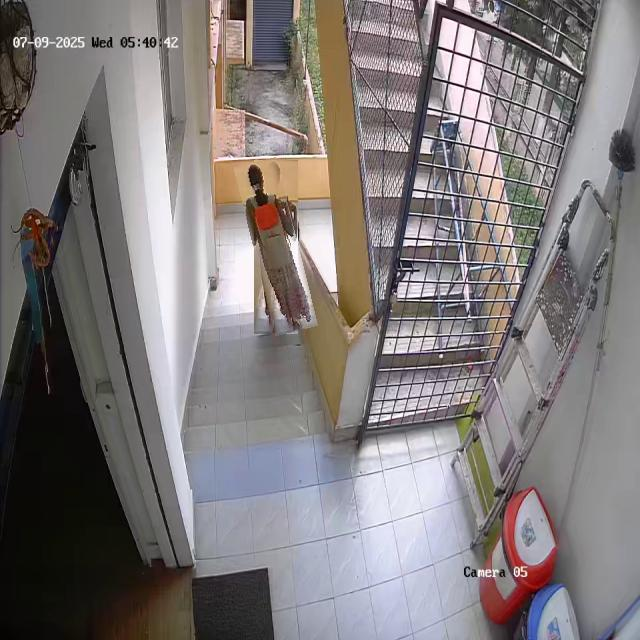person: (244, 159, 308, 335)
